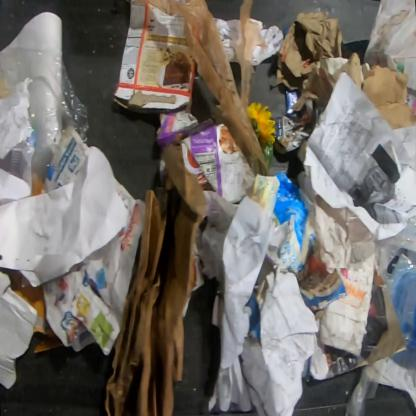cardboard: (104, 145, 207, 415), (275, 11, 416, 130), (113, 0, 196, 116), (156, 110, 256, 202), (242, 171, 316, 274), (318, 239, 374, 358), (0, 271, 38, 391), (266, 249, 277, 266)
soft_plastic: (137, 0, 272, 176), (0, 47, 90, 189), (377, 210, 415, 290), (388, 249, 415, 352)
